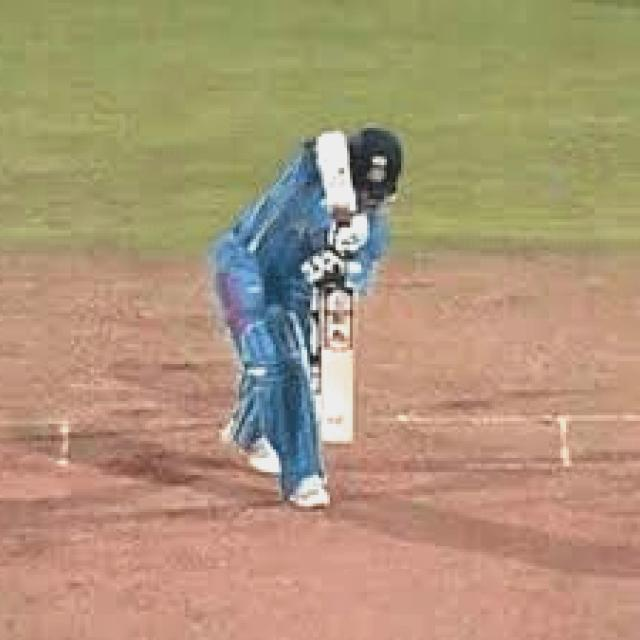bat: (316, 280, 357, 449)
toe: (315, 436, 357, 445)
